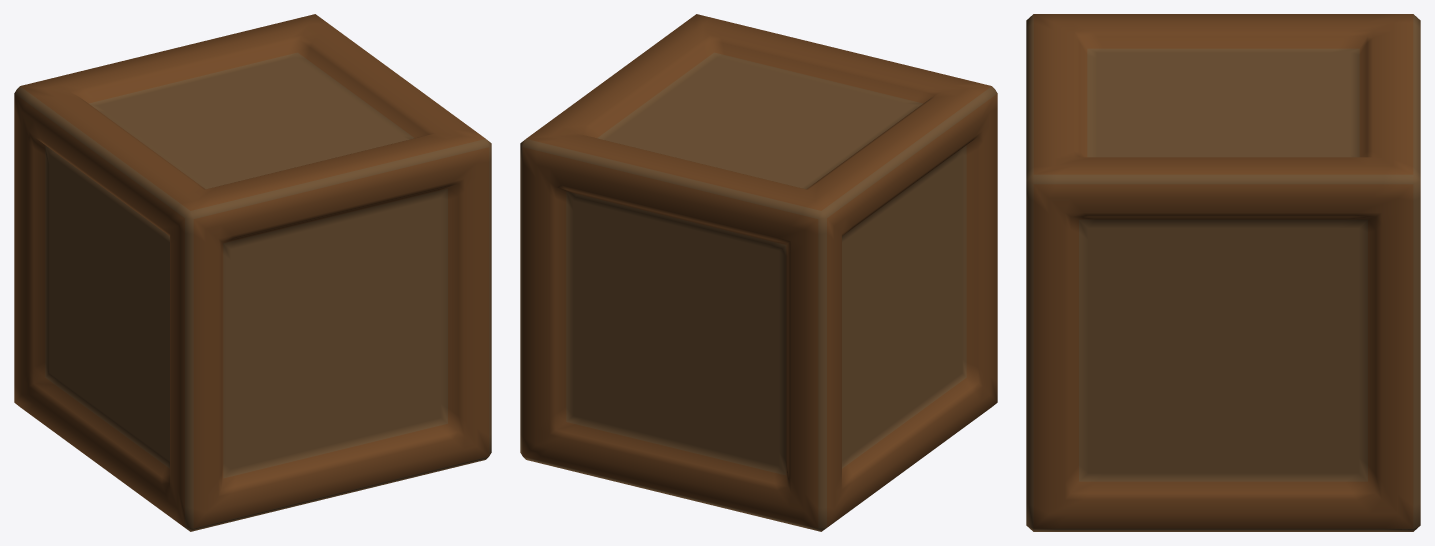
File: crate.glb
3 renders of one model, left to right at view 1: azimuth 30°, elevation 25°; view 2: azimuth 150°, elevation 25°; view 3: azimuth 270°, elevation 25°, orthographic. The views are drawn at different scales.
Parts seen in each view (by area): view 1: Cube; view 2: Cube; view 3: Cube.
Part boxes in pixels (x1,y1,x2,y2): Cube: [14, 14, 491, 531]; Cube: [520, 14, 997, 531]; Cube: [1026, 14, 1420, 531].
Bounding box in the file's own units: 1.72 × 1.72 × 1.72.
